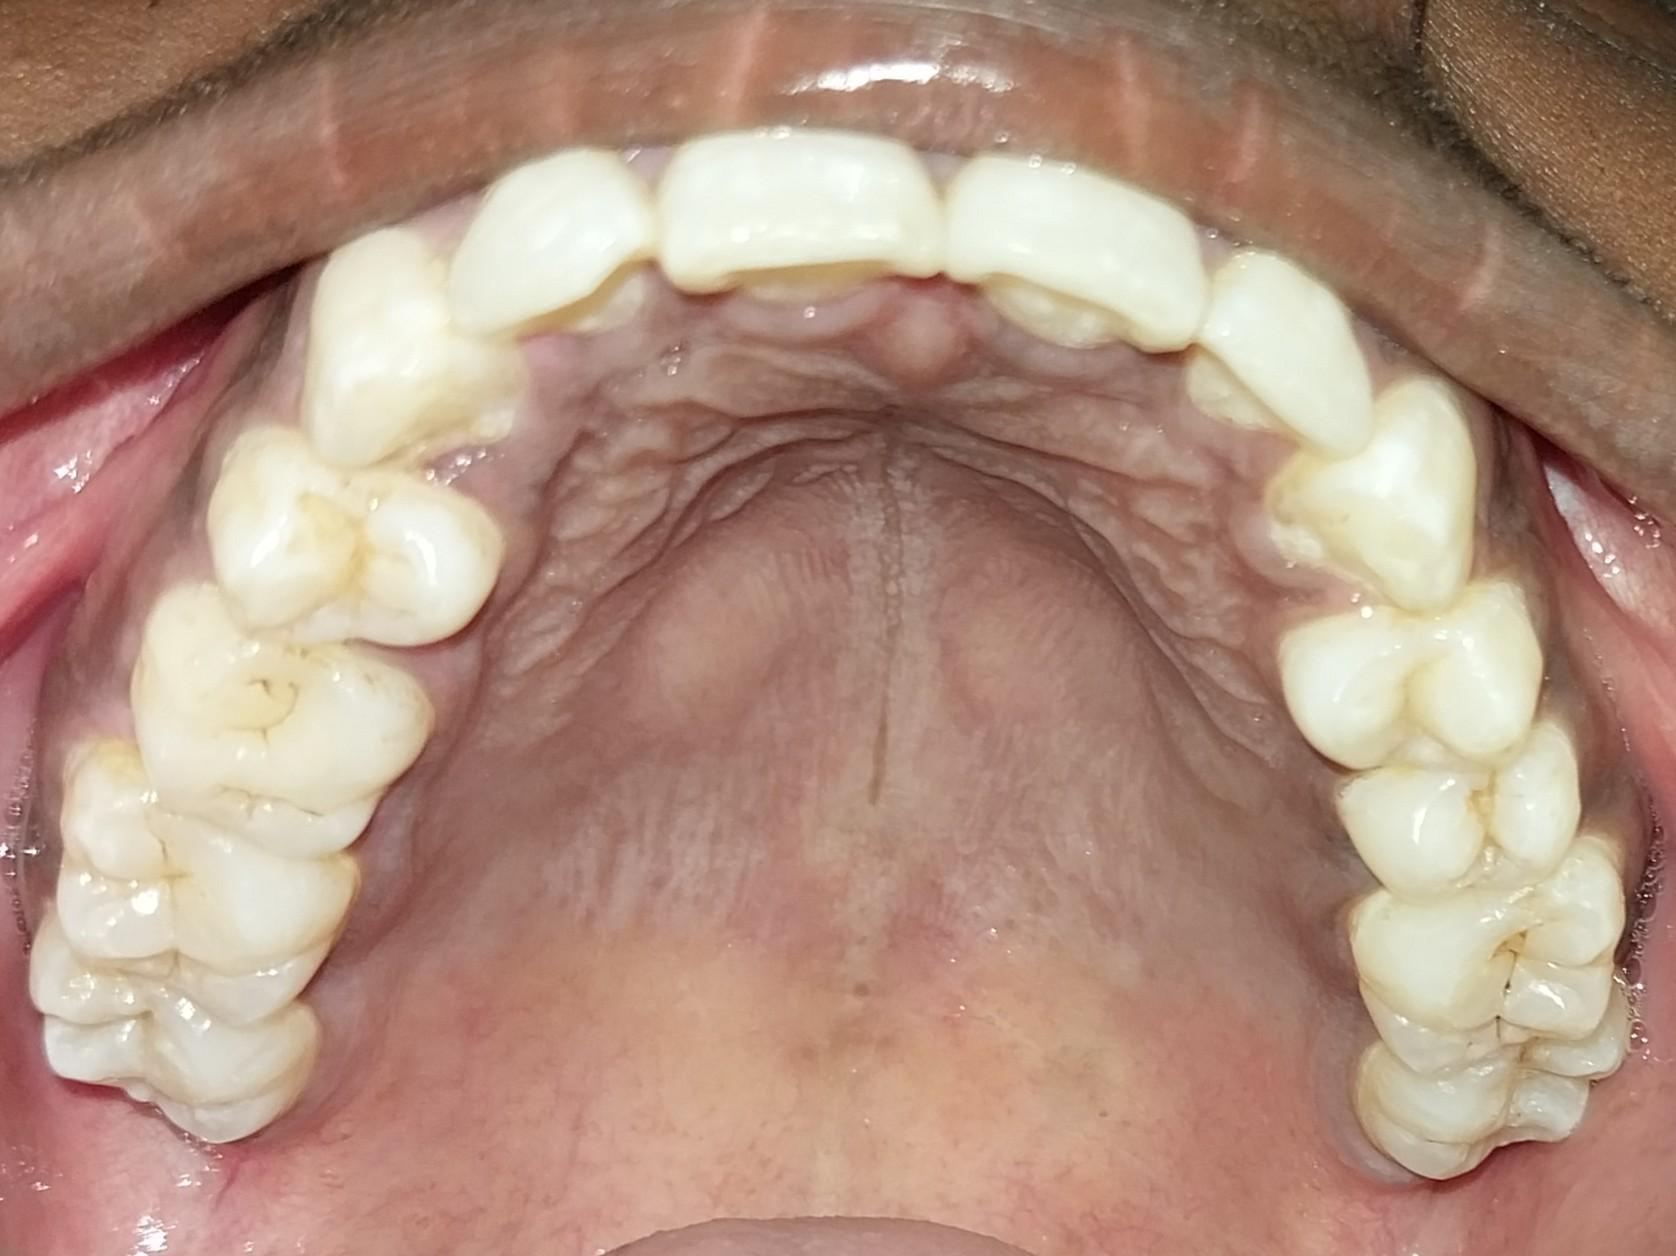D: (1348, 872, 1619, 1072)
